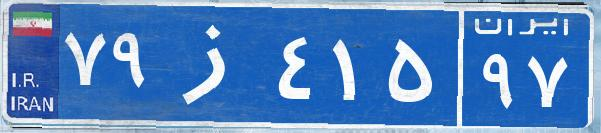1: (330, 28, 385, 110)
4: (273, 28, 330, 110)
5: (385, 28, 445, 110)
7: (57, 26, 110, 107), (525, 38, 570, 115)
9: (475, 38, 525, 113), (110, 28, 158, 105)
ز: (158, 15, 273, 115)
